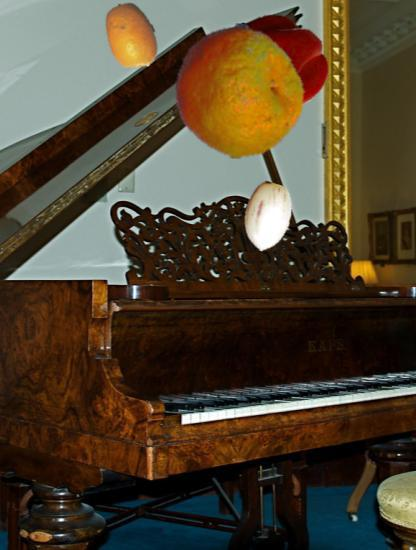Kumquats: (97, 2, 166, 71)
Mandarine: (172, 24, 307, 159)
Pepino: (233, 183, 302, 252)
Pepper: (230, 10, 331, 111)
